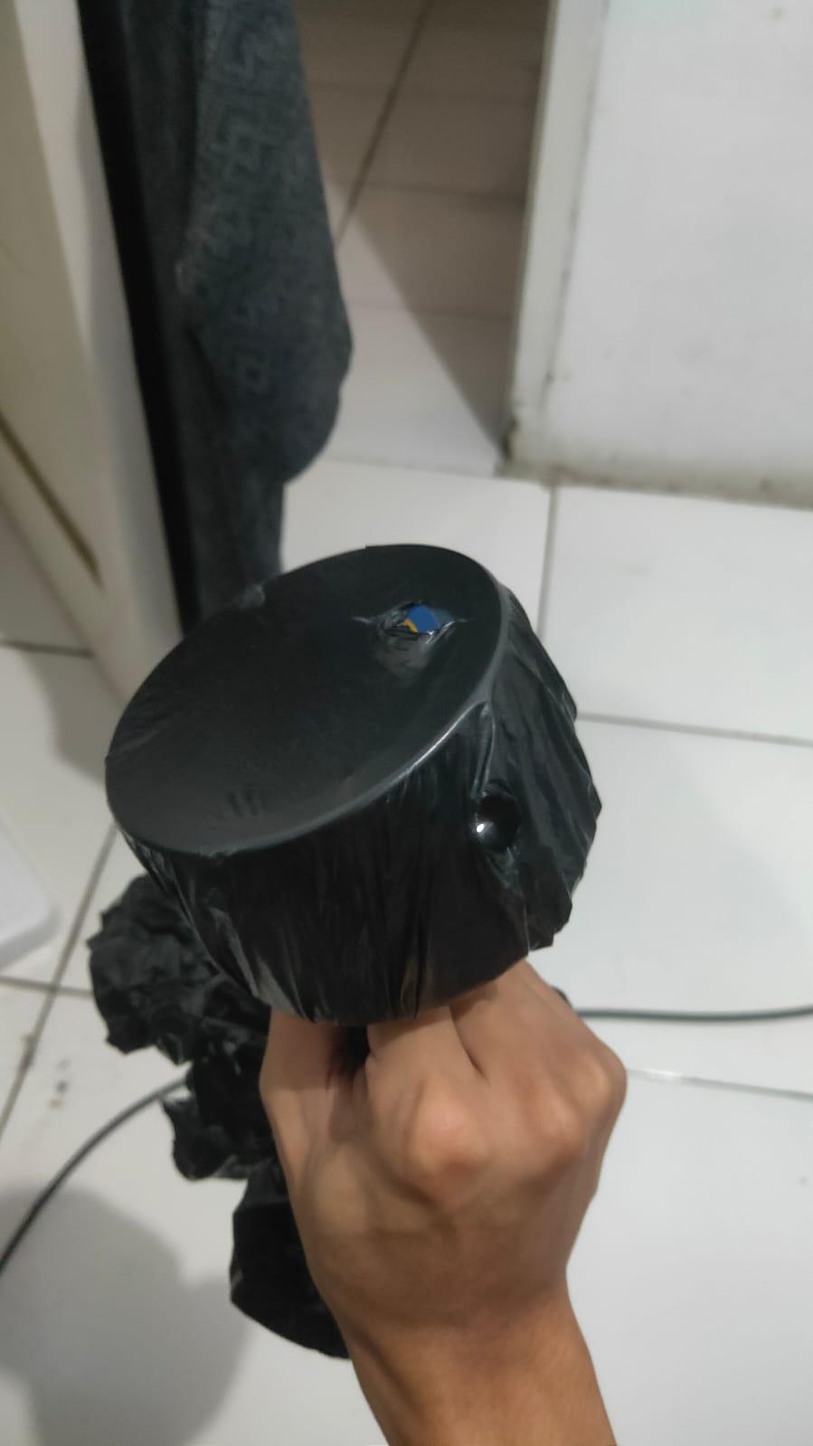damaged package: (461, 777, 531, 859), (378, 593, 462, 640)
undamaged: (97, 532, 620, 1037)
